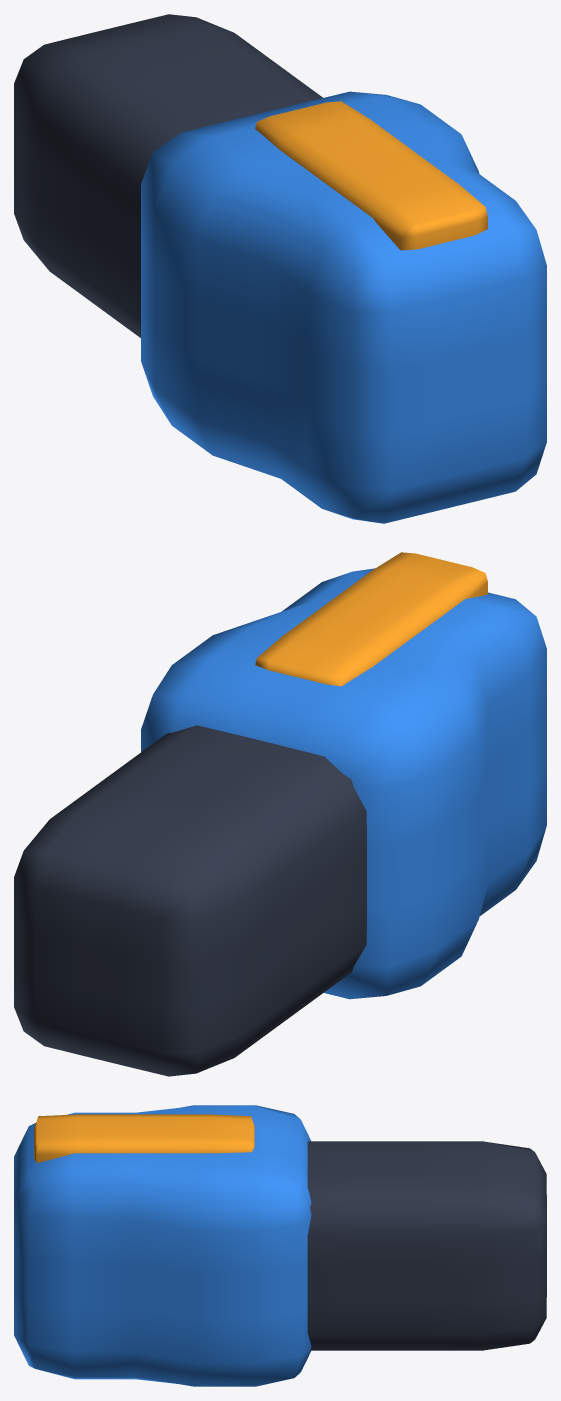
The model's file is glove_mantis.obj.
3 views of the same model, one above another, from view 1: azimuth 30°, elevation 25°; view 2: azimuth 150°, elevation 25°; view 3: azimuth 270°, elevation 25° (orthographic). The views are drawn at different scales.
Bounding box in the file's own units: 0.24 × 0.25 × 0.53.
